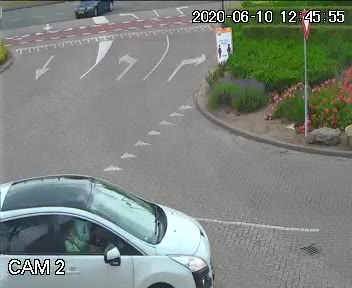car: (0, 167, 229, 288)
